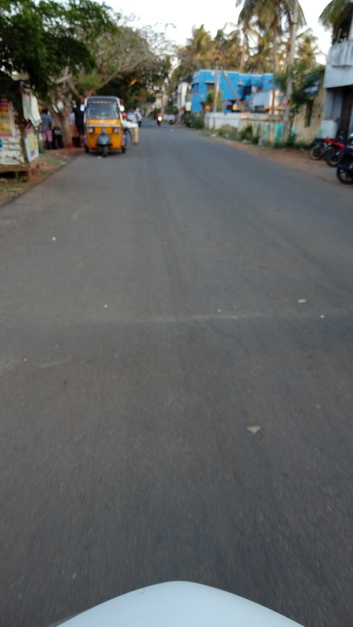bump: (1, 314, 353, 403)
